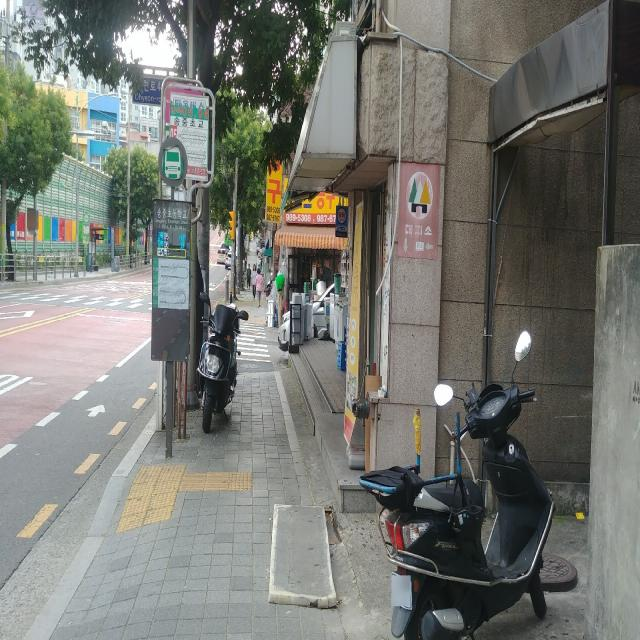횡단보도: (210, 322, 272, 362)
